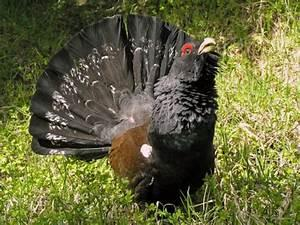hen: (22, 12, 235, 220)
